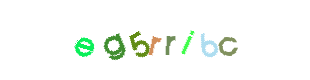5: (101, 0, 181, 80)
6: (152, 0, 232, 80)
C: (168, 0, 248, 80)
E: (69, 0, 149, 80)
G: (85, 0, 165, 80)
I: (120, 0, 200, 80)
R: (113, 0, 193, 80), (115, 0, 195, 80)
